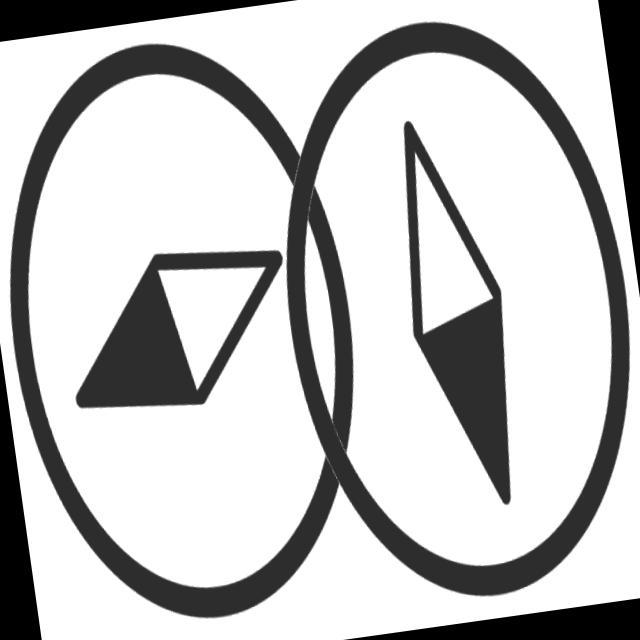compass: (237, 1, 640, 633), (1, 11, 404, 640)
